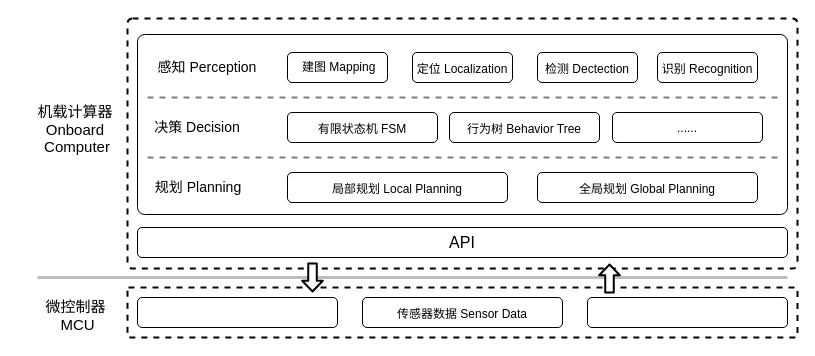
Image size: 815x356. Some labels were removed from this diagram. The centre of each missing label's shape, as x and y in pixels:
"数据转发 Forwarding data" goes at (687,312).
"运动控制 Motion control" goes at (237,312).
